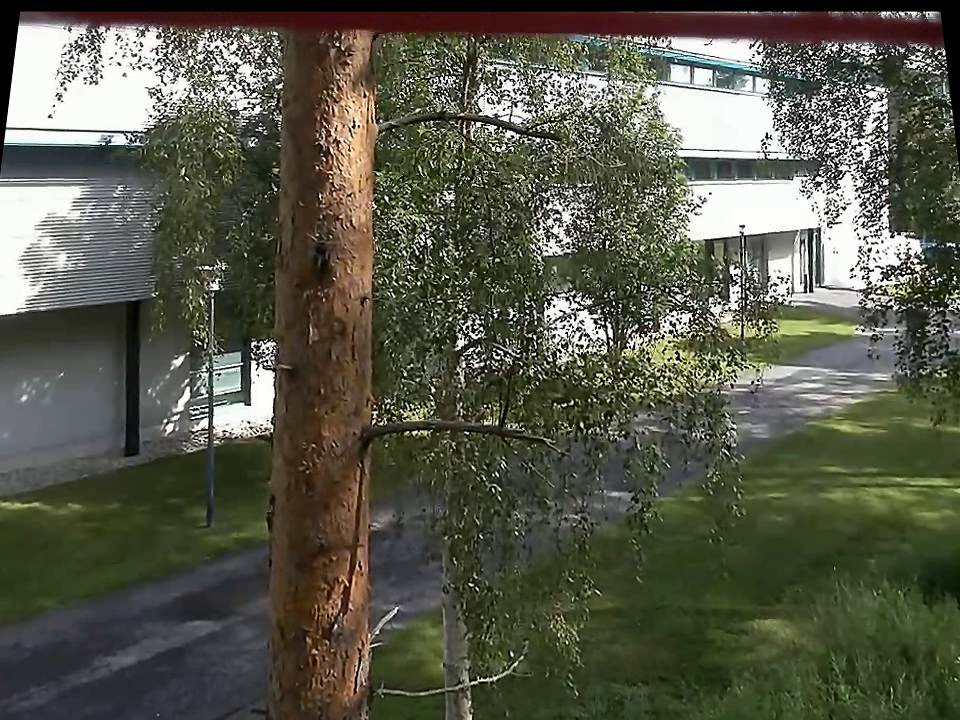branch: (376, 397, 583, 458), (376, 631, 542, 705), (376, 101, 568, 148)
trunk: (268, 30, 377, 712)
